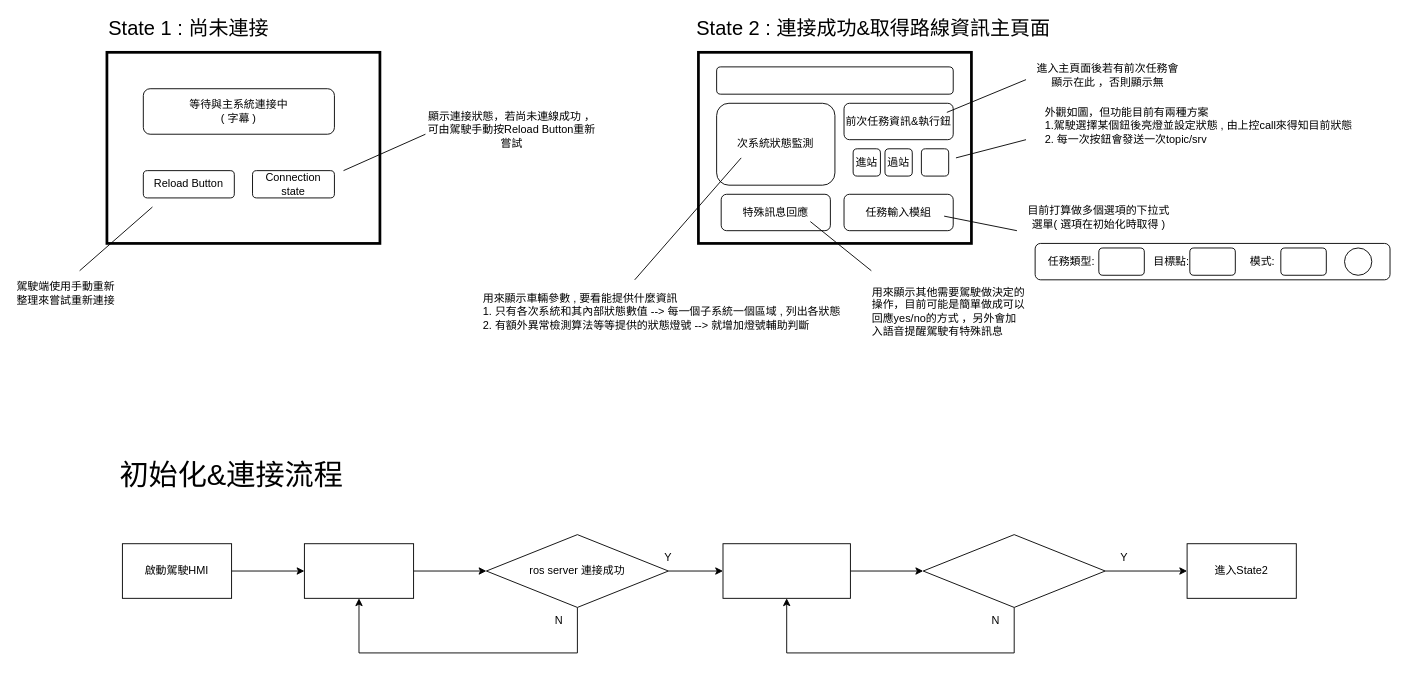
Some shapes in this 1406 by 676 pixel diagram are drawn without their labels. Each missing label, with the box of its shape:
已經取得路線資訊: (922, 534, 1105, 607)
發送: (1344, 247, 1372, 275)
站點序列(同乘客HMI): (716, 66, 953, 94)
註冊Topic/Service 同時索取&監聽路線資訊: (722, 543, 850, 598)
進入State1 ( 可reload嘗試重連): (303, 543, 414, 598)
離站: (920, 148, 949, 176)
